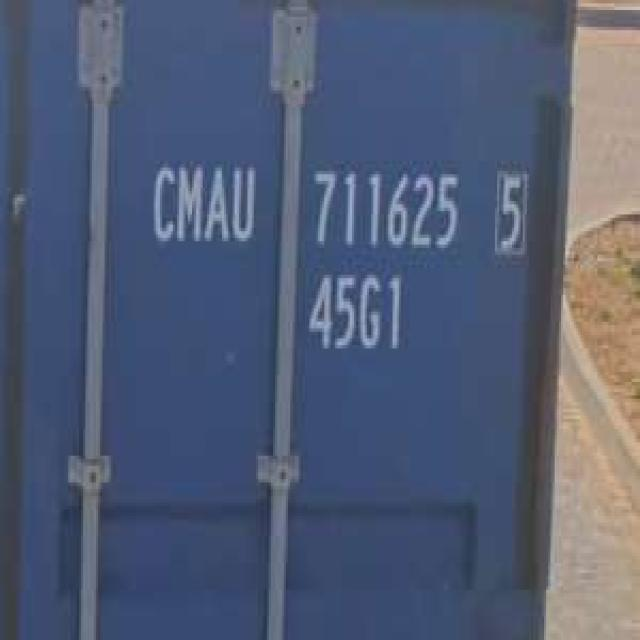dv: (489, 161, 531, 258)
owner: (143, 150, 258, 254)
serial: (303, 157, 463, 258)
size: (301, 262, 407, 358)
